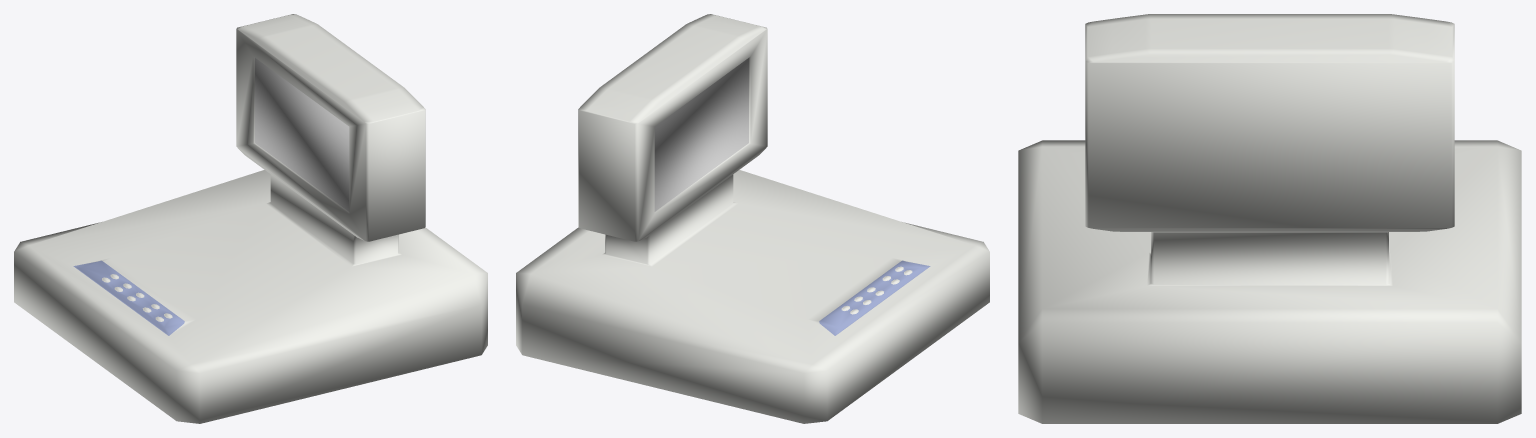
The model's file is Electrocardiogram.fbx.
The picture shows the model from 3 angles, left to right: view 1: azimuth 30°, elevation 25°; view 2: azimuth 150°, elevation 25°; view 3: azimuth 270°, elevation 25°; orthographic projection. The views are drawn at different scales.
Visible parts, largest first — view 1: Electrocardiogram; view 2: Electrocardiogram; view 3: Electrocardiogram.
Part boxes in pixels (x1=…): Electrocardiogram: x1=14, y1=14, x2=487, y2=423; Electrocardiogram: x1=516, y1=14, x2=989, y2=423; Electrocardiogram: x1=1018, y1=14, x2=1521, y2=423.
Size of the model in its own units: 0.4 by 0.3 by 0.4.
